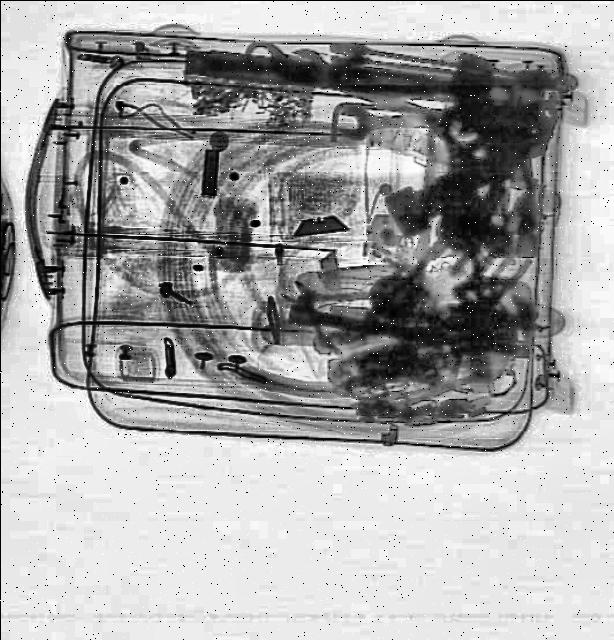Wrench: (336, 102, 440, 142)
